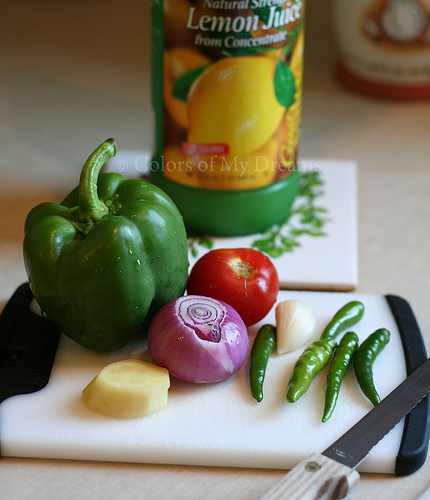capsicum: (20, 136, 191, 356)
